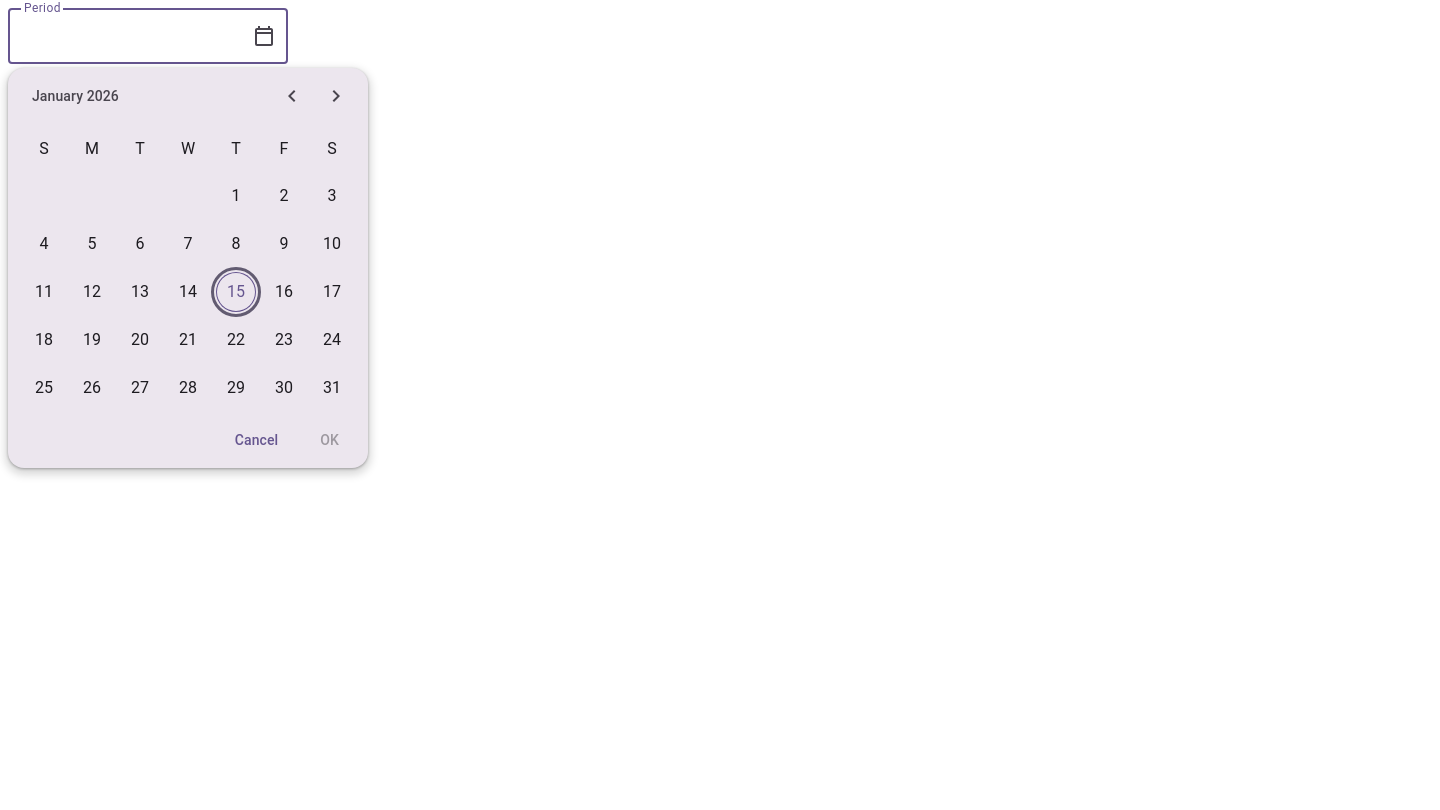
Test: DateRangePicker › picks a start and an end, and applies them on OK
Earlier steps of the test are not shown.
Expected: the button "OK" is disabled, [303, 420, 356, 460]
Click the cell named "January 5, 2026". click: (92, 244)
box: [68, 220, 116, 268]
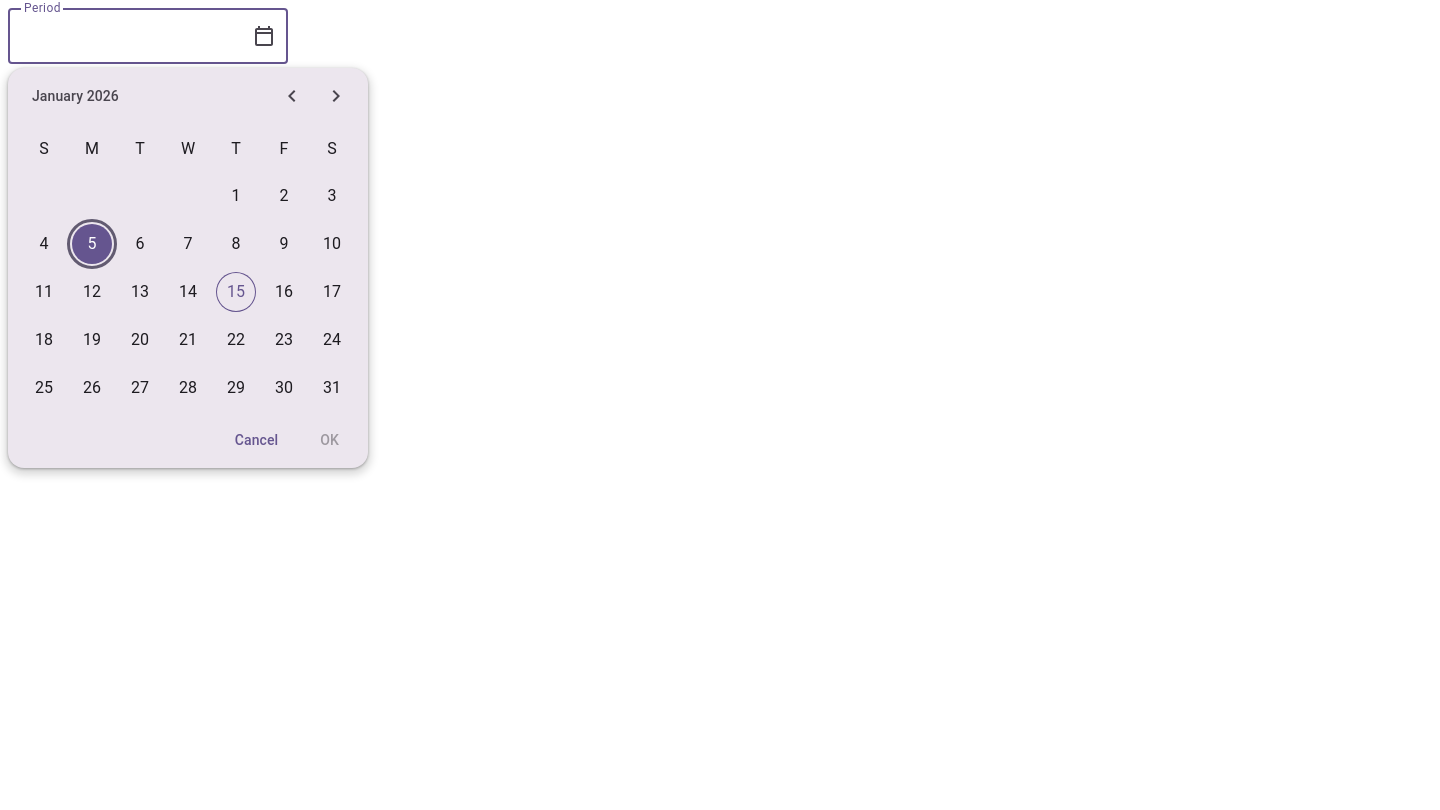
Click the cell named "January 9, 2026". click: (284, 244)
box: [260, 220, 308, 268]
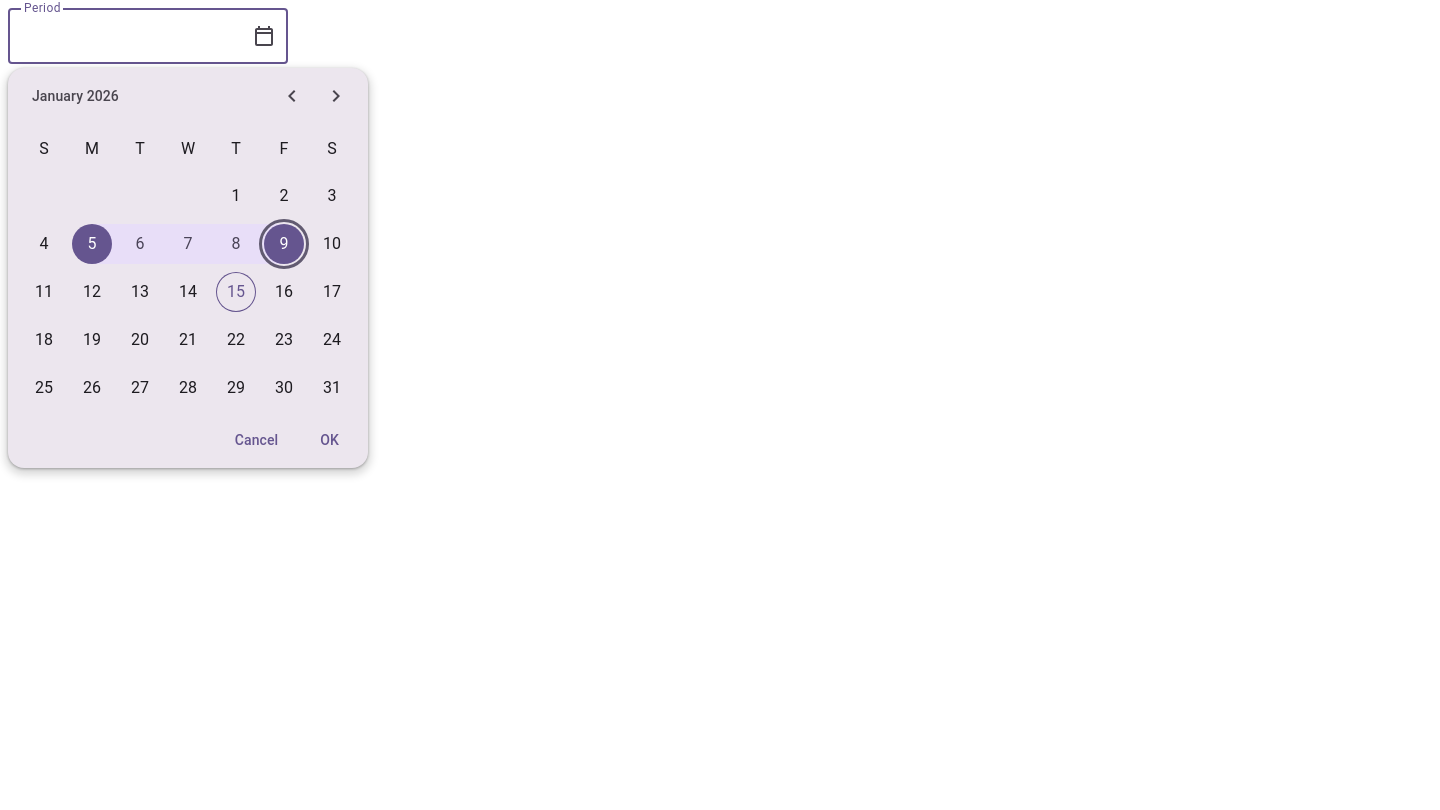
Now the cell named "January 5, 2026" is selected, box [68, 220, 116, 268]
Click the button "OK". click: (330, 440)
box: [303, 420, 356, 460]
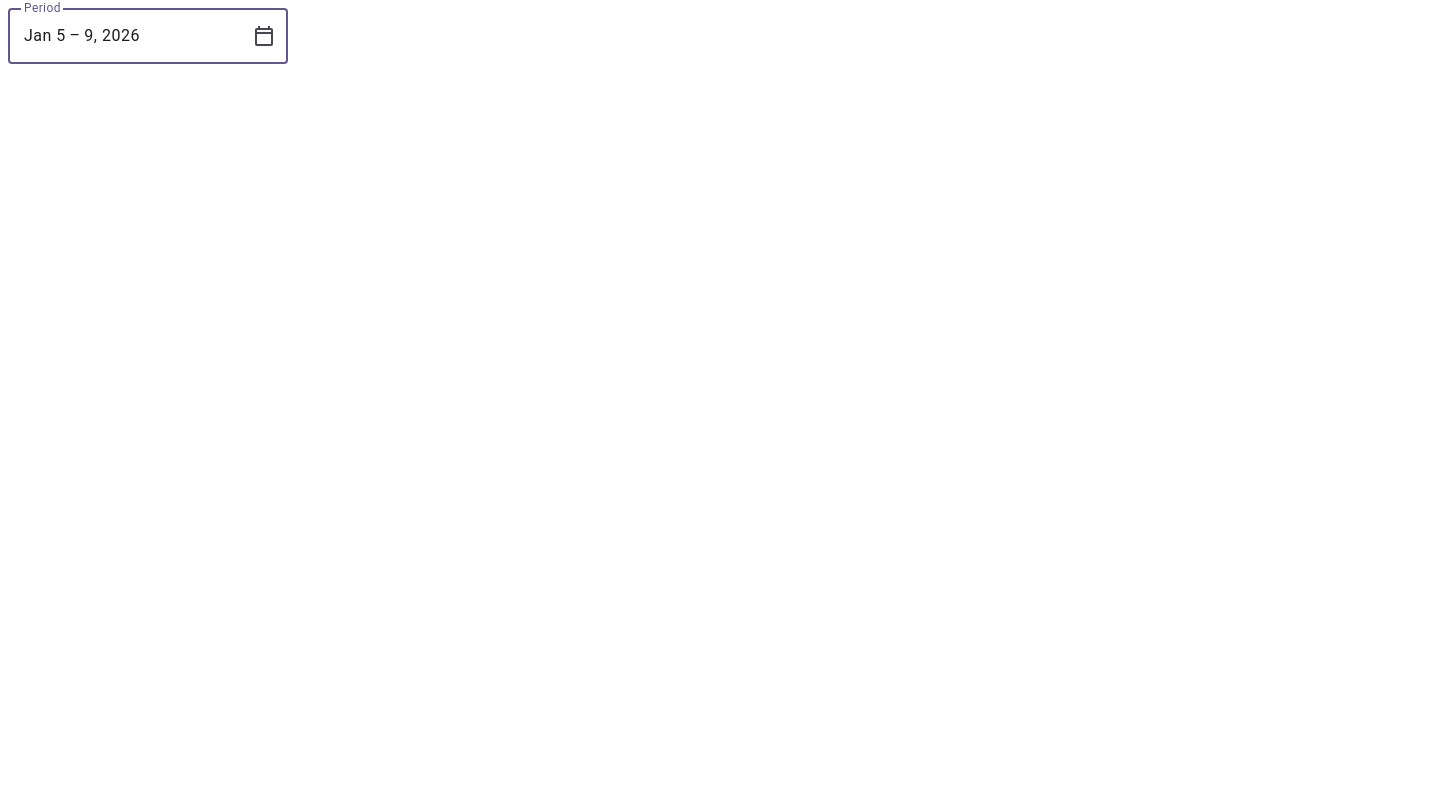
Now the dialog is gone
Now the button named "Period" reads "Jan 5 – 9, 2026", box [24, 24, 240, 48]
